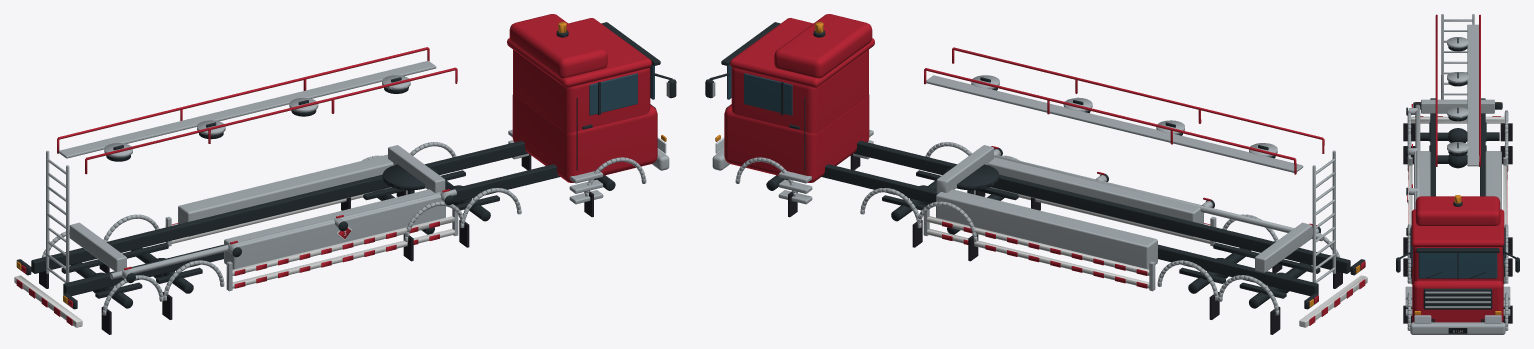
File: truck-showcase-body.glb
3 renders of one model, left to right at view 1: azimuth 30°, elevation 25°; view 2: azimuth 150°, elevation 25°; view 3: azimuth 270°, elevation 25°, orthographic. The views are drawn at different scales.
Parts seen in each view (by area): view 1: Main chassis; view 2: Main chassis; view 3: Main chassis.
Part boxes in pixels (x1,y1,x2,y2): Main chassis: (14, 14, 676, 334); Main chassis: (705, 14, 1367, 334); Main chassis: (1396, 14, 1519, 334).
Size of the model in its own units: 13.79 by 3.68 by 3.2.
